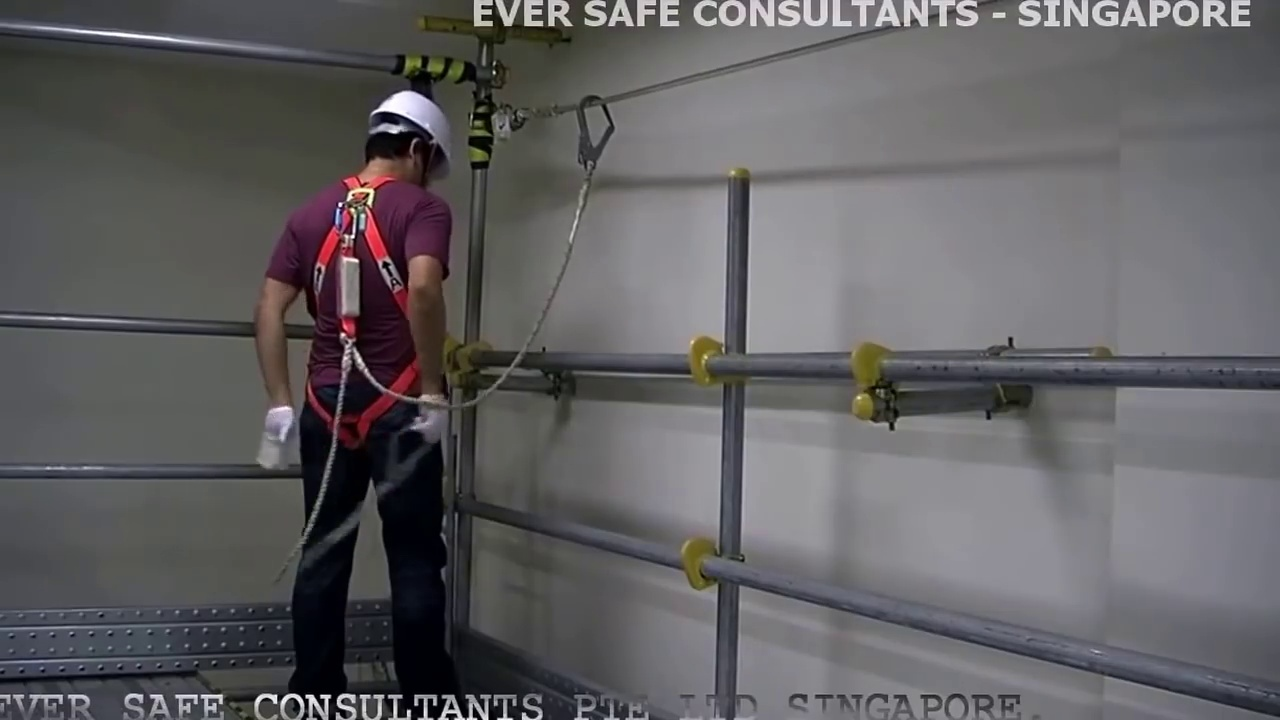harness: (309, 180, 406, 436)
helmet: (366, 85, 452, 155)
hook: (570, 88, 618, 169)
leash: (486, 192, 595, 405)
